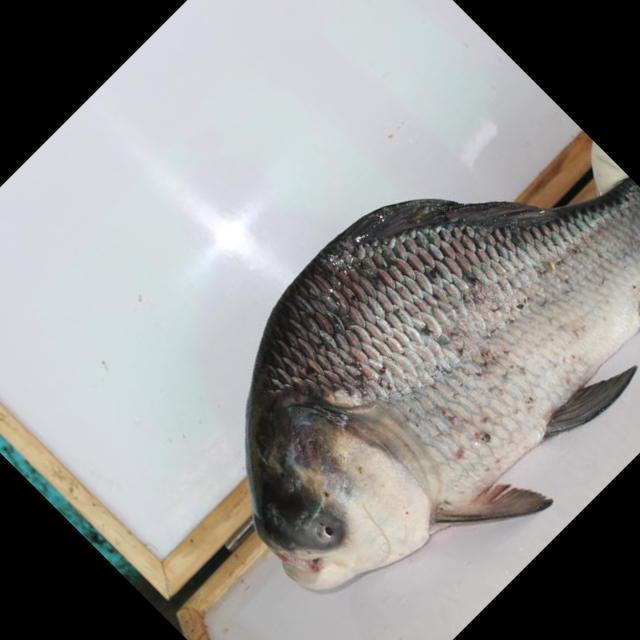Catla: (205, 177, 640, 595)
